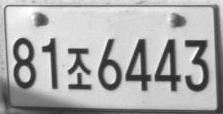1: (39, 37, 65, 89)
3: (184, 39, 209, 92)
4: (124, 38, 152, 92), (153, 38, 181, 91)
6: (96, 37, 122, 91)
8: (11, 36, 37, 89)
조: (66, 47, 92, 91)
